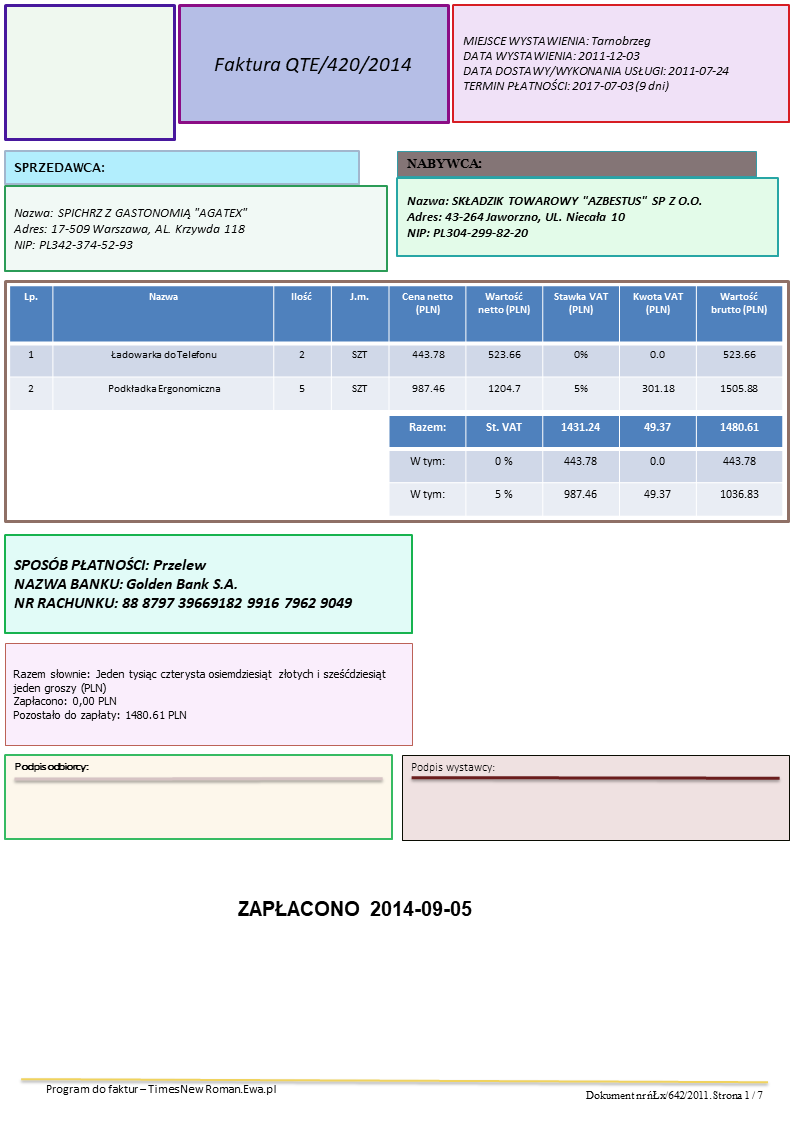Table: (8, 284, 784, 410), (387, 414, 784, 516)
TextBox: (10, 665, 389, 724), (10, 556, 355, 613), (461, 32, 732, 97), (402, 193, 704, 240), (11, 204, 251, 254), (234, 894, 474, 922), (209, 50, 415, 79), (43, 1079, 278, 1099), (579, 1086, 767, 1105), (10, 158, 106, 177), (408, 759, 496, 775), (403, 154, 485, 171), (11, 759, 89, 775)
